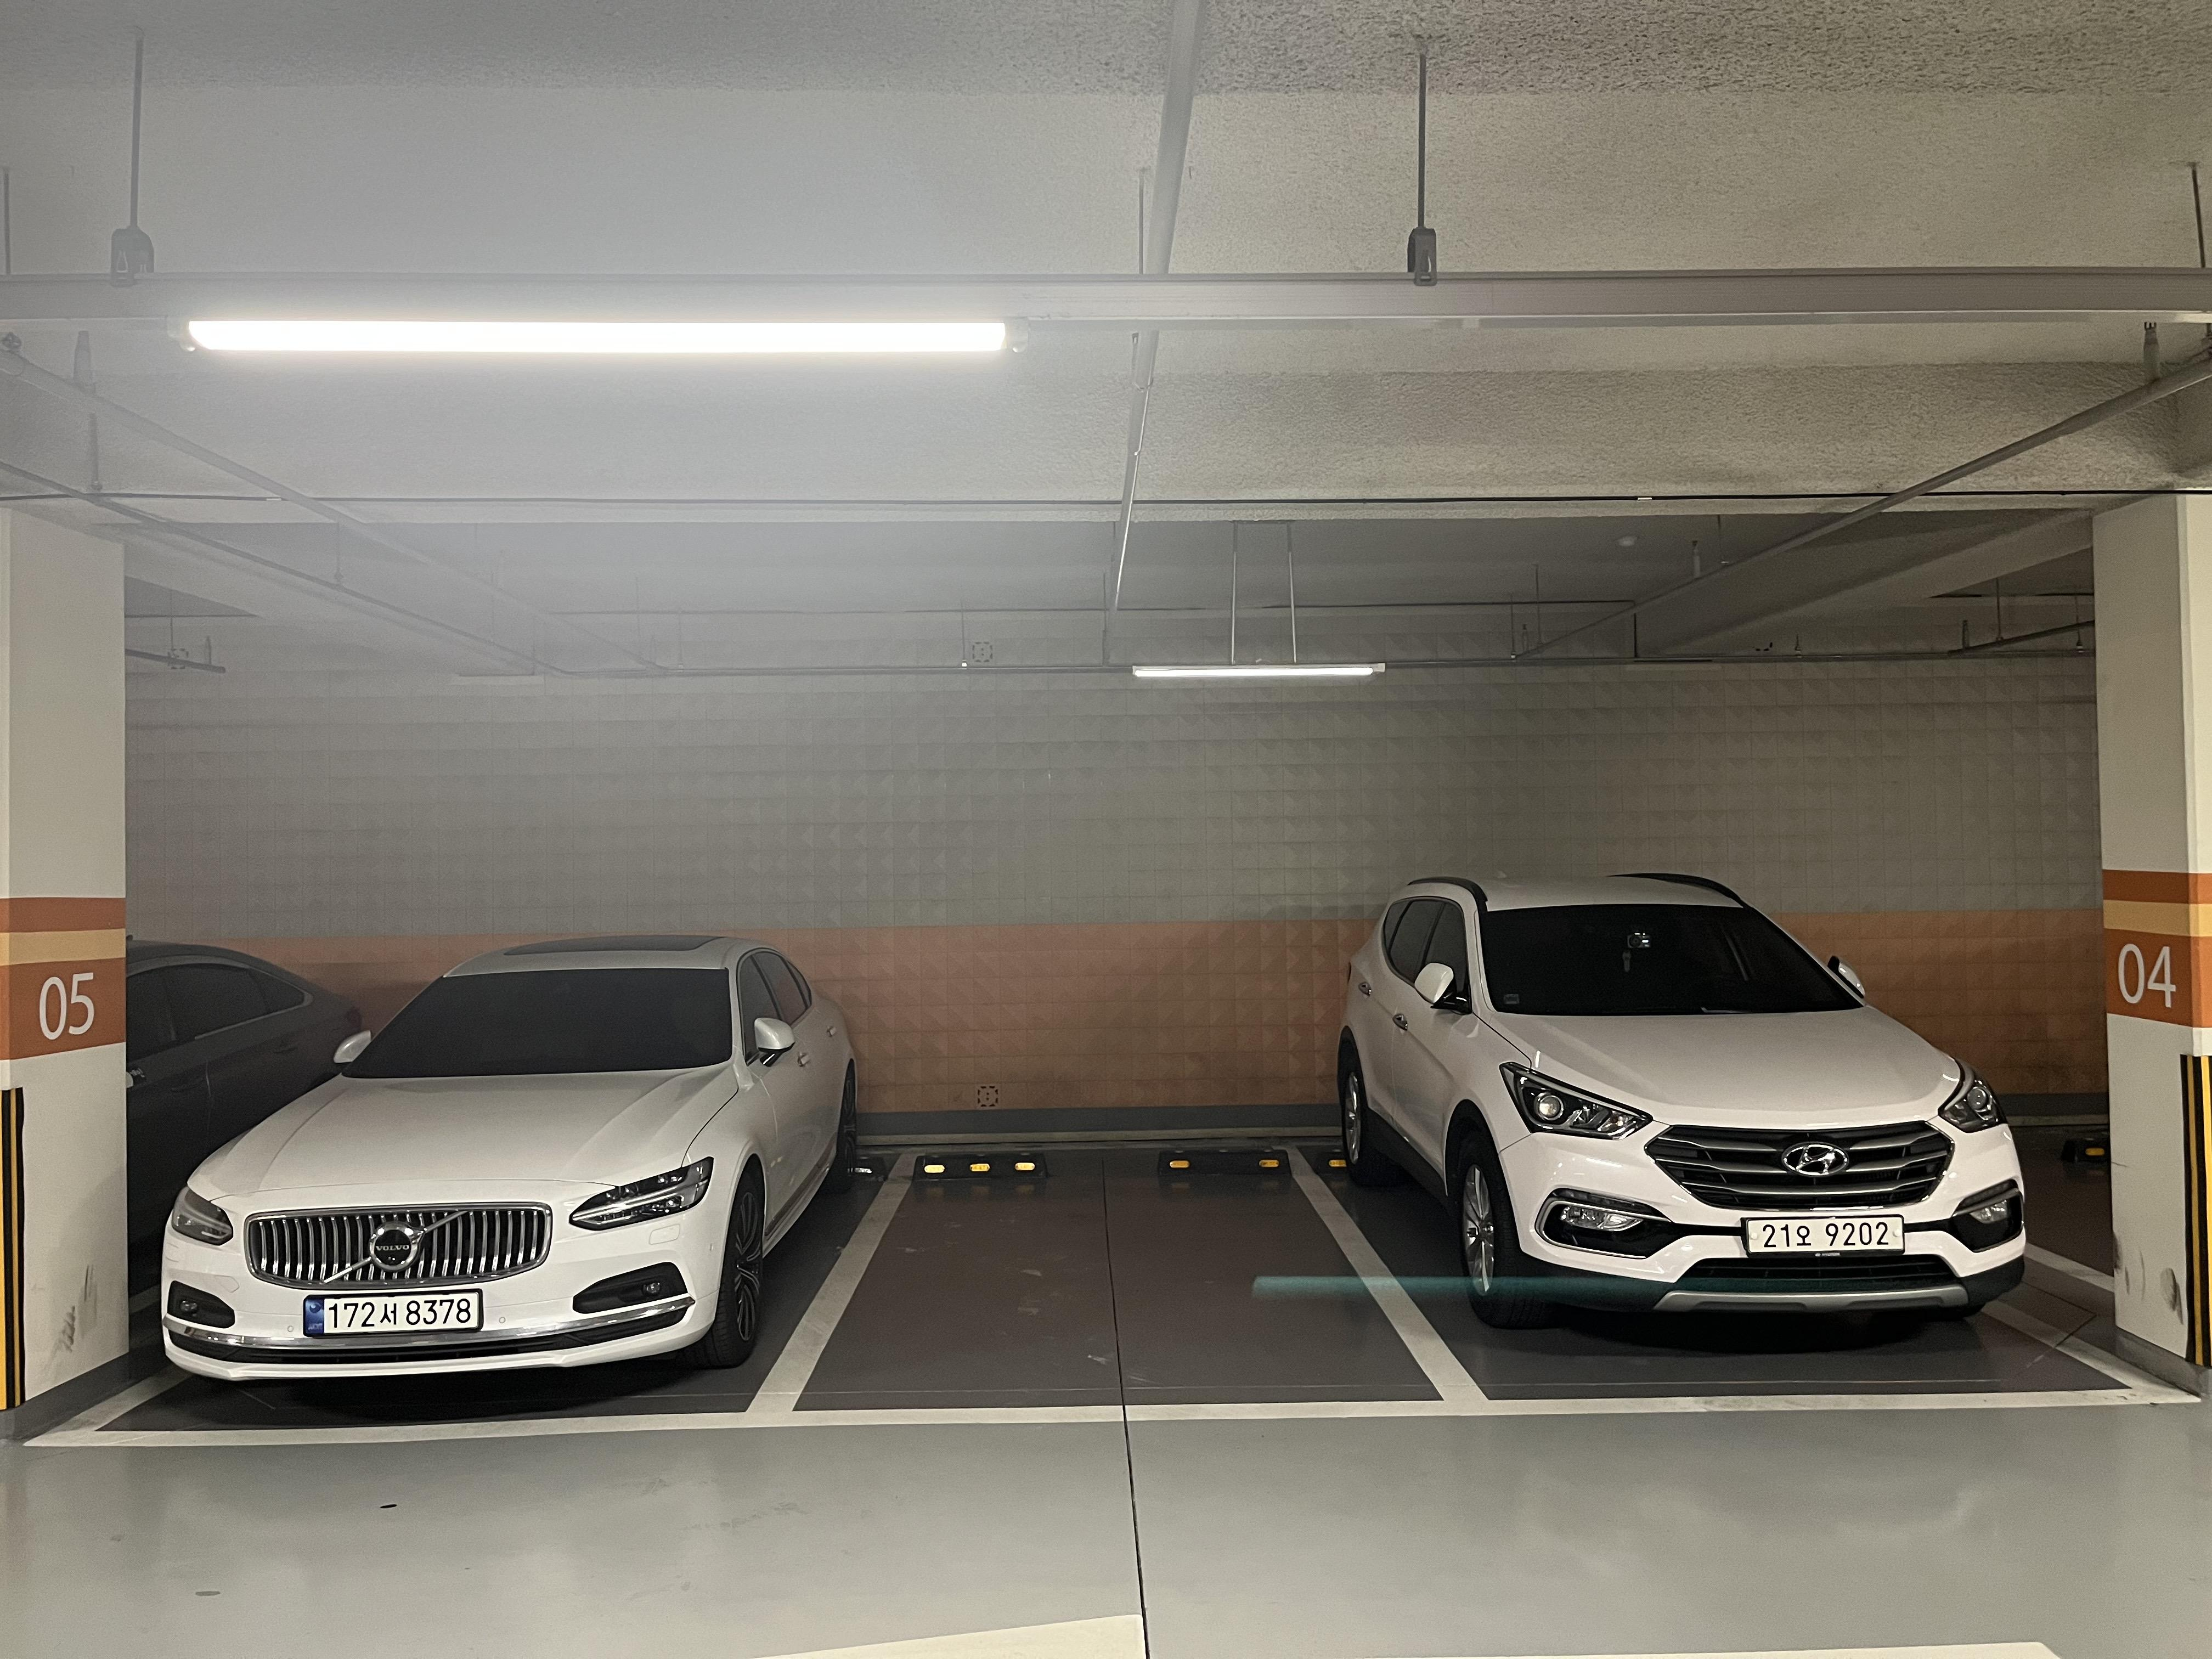empty: (717, 1126, 1522, 1448)
occupied: (1331, 843, 2134, 1442), (140, 919, 818, 1451)
